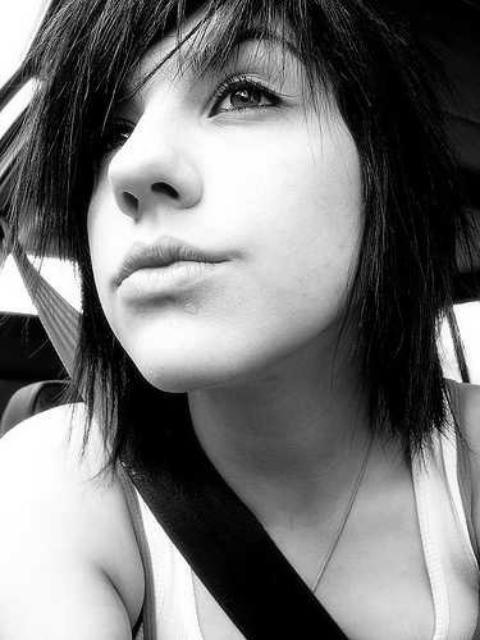SafeDriving: (194, 51, 305, 132)
Seatbelt: (0, 210, 358, 638)
